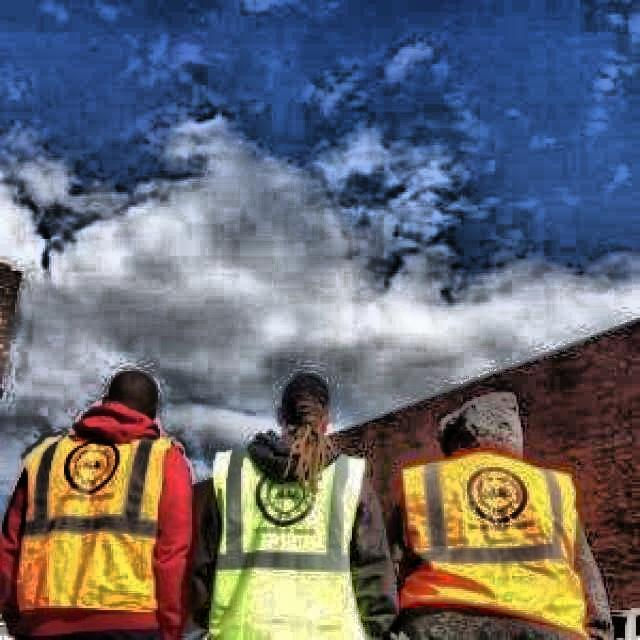safety_jacket: (404, 420, 598, 630), (17, 418, 164, 632), (202, 452, 358, 640)
